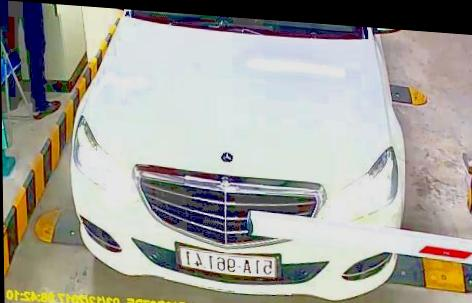License_Plate: (175, 244, 281, 281)
